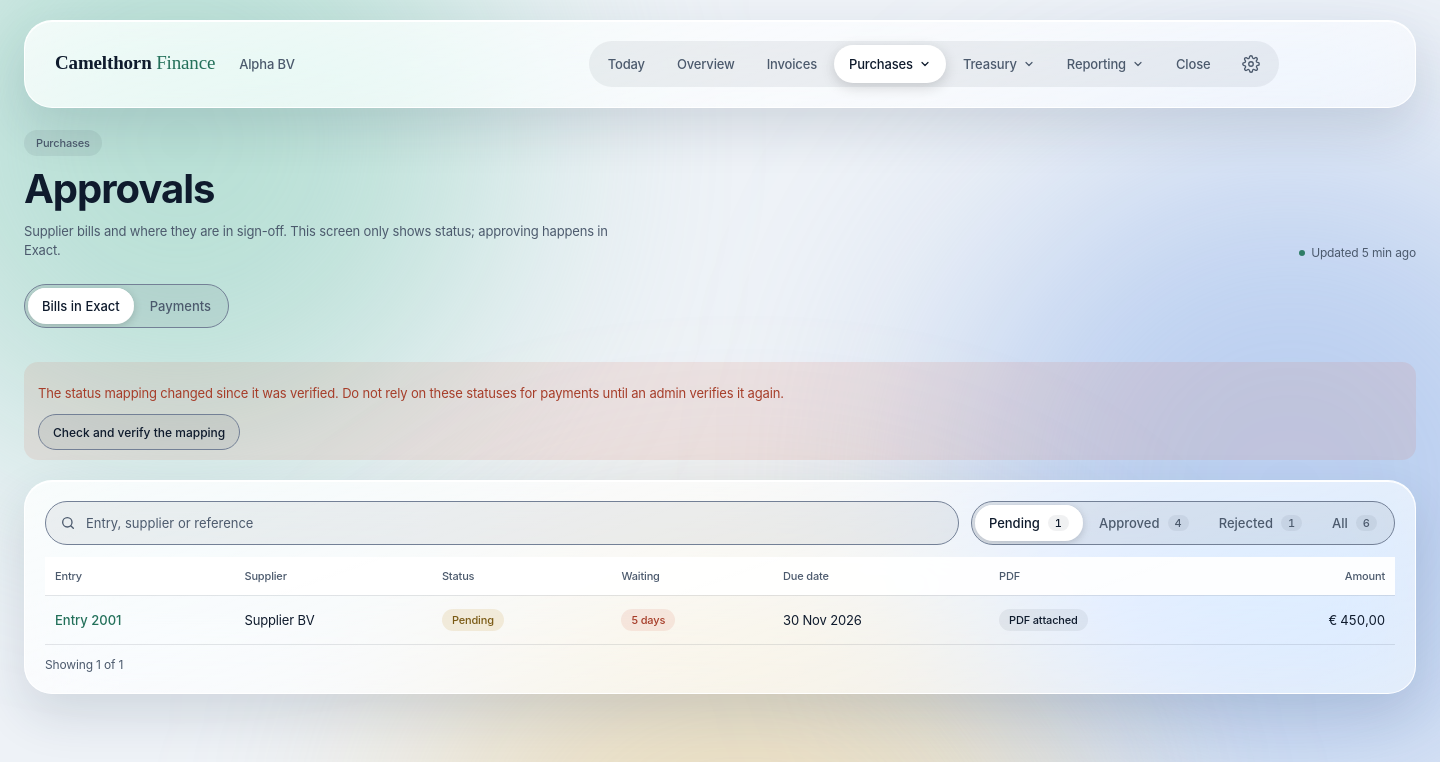
mapping not verified (review S2) › says when the mapping changed since it was verified, and lets an admin verify again
Expected: the text "The status mapping changed since it was verified. Do not rely on these statuses for payments until an admin verifies it " is shown, [38,385,784,401]
Click the button "Check and verify the mapping" at point(139, 432), box [38,414,240,450]
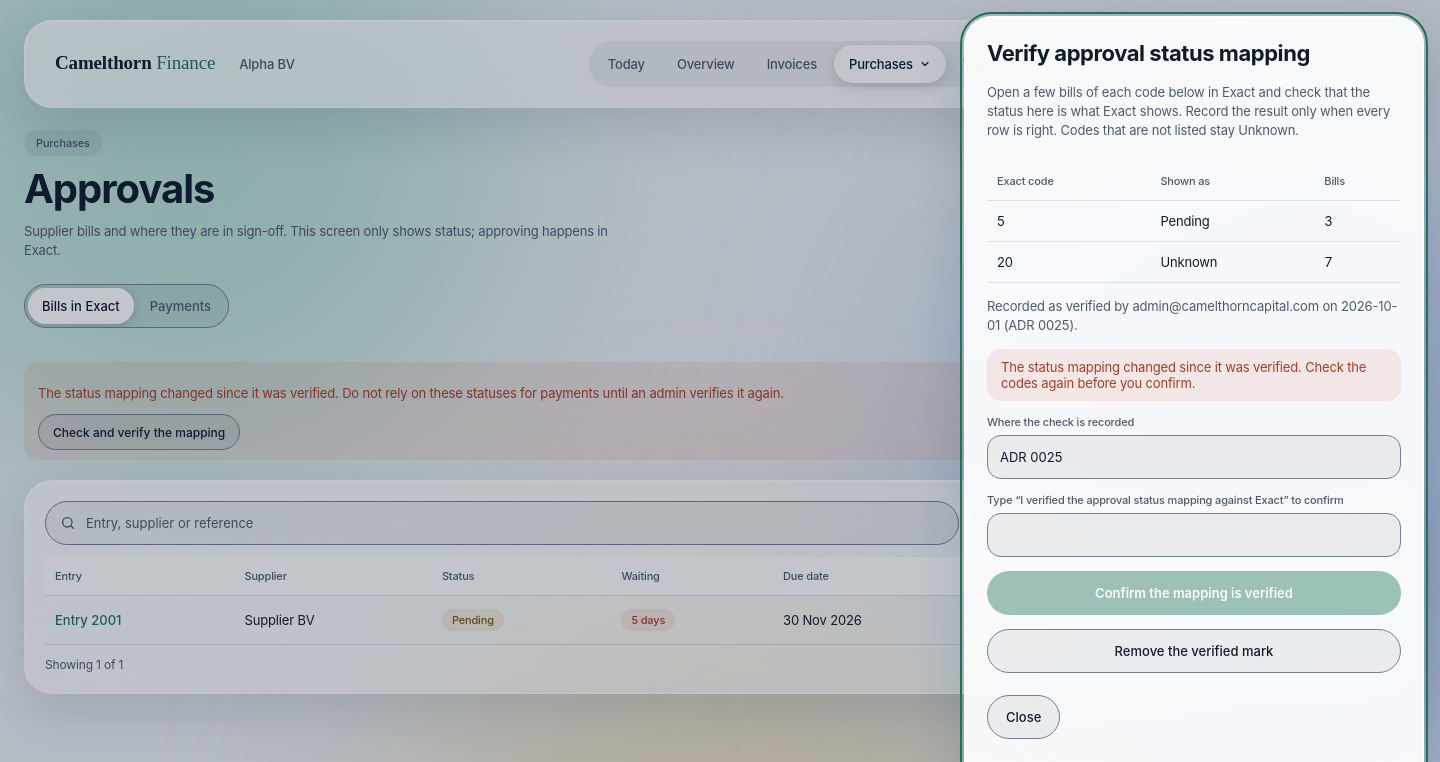
Expected: the text "The status mapping changed since it was verified" is shown, [1001,359,1366,391]
Expected: the button "Remove the verified mark" is shown, [987,629,1401,673]
Type "I verified the approval status mapping against Exact" into the field labelled "to confirm" at point(1194, 535), box [987,513,1401,557]
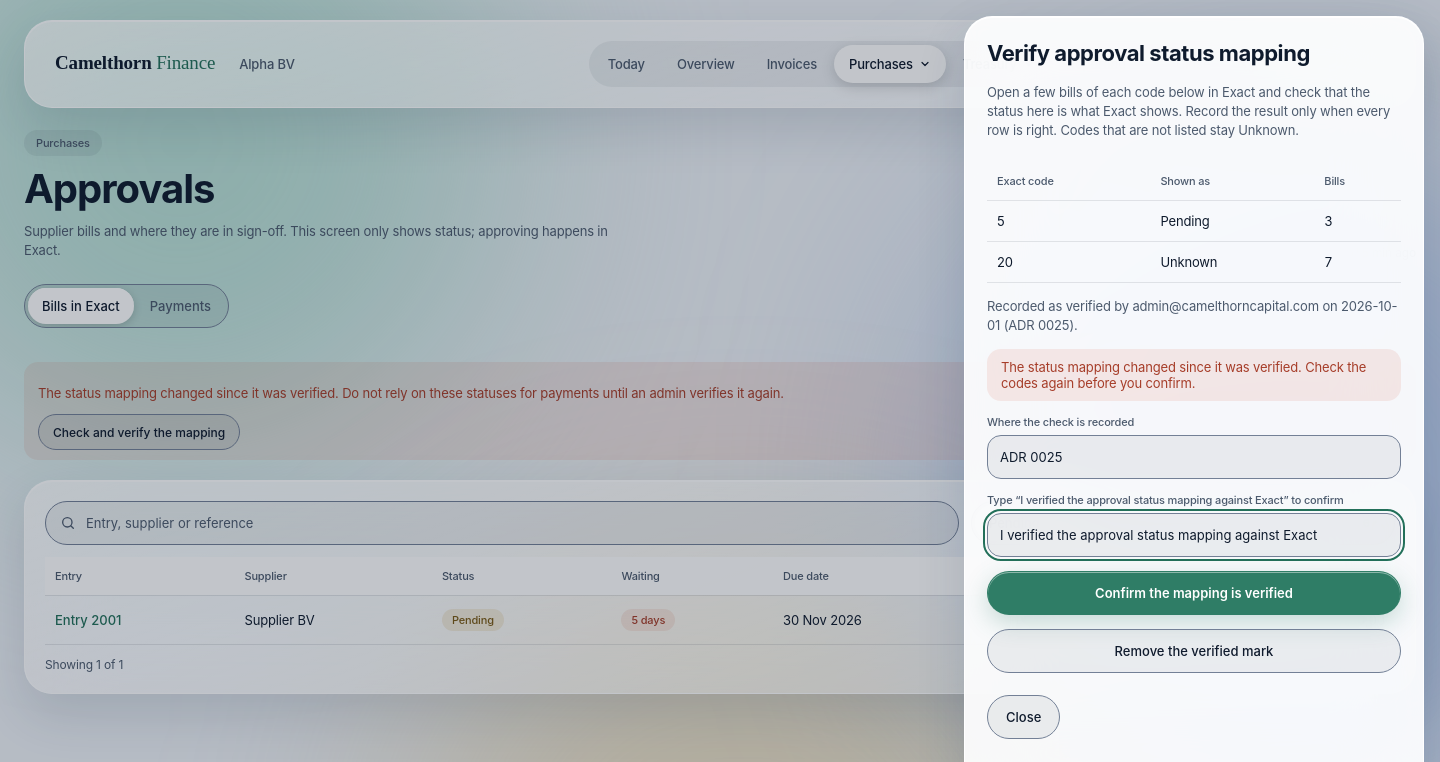
Click the button "Confirm the mapping is verified" at point(1194, 593), box [987,571,1401,615]
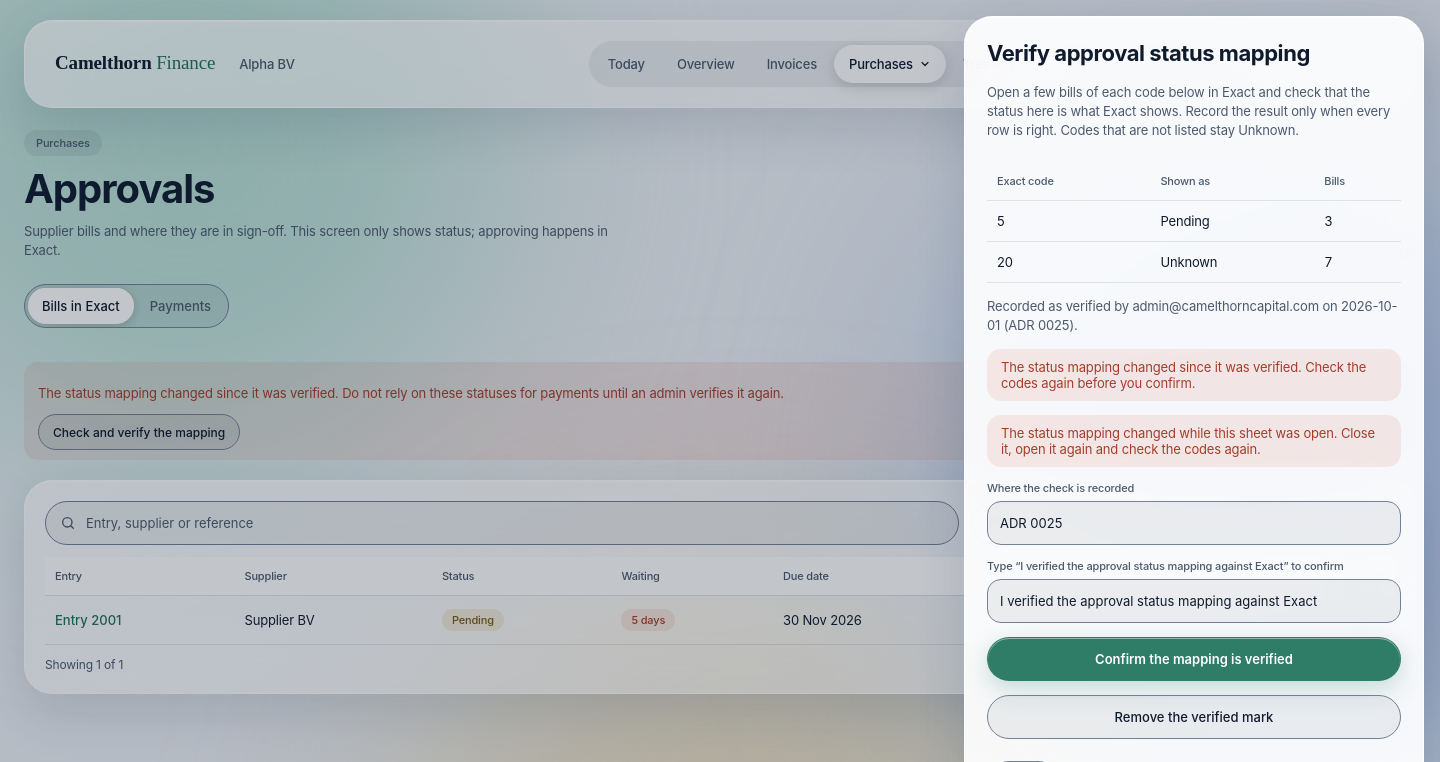
Expected: the text "The status mapping changed since it was verified. Do not rely on these statuses for payments until an admin verifies it " is shown, [38,385,784,401]
Expected: the text "changed while this sheet was open" is shown, [1001,425,1375,457]
